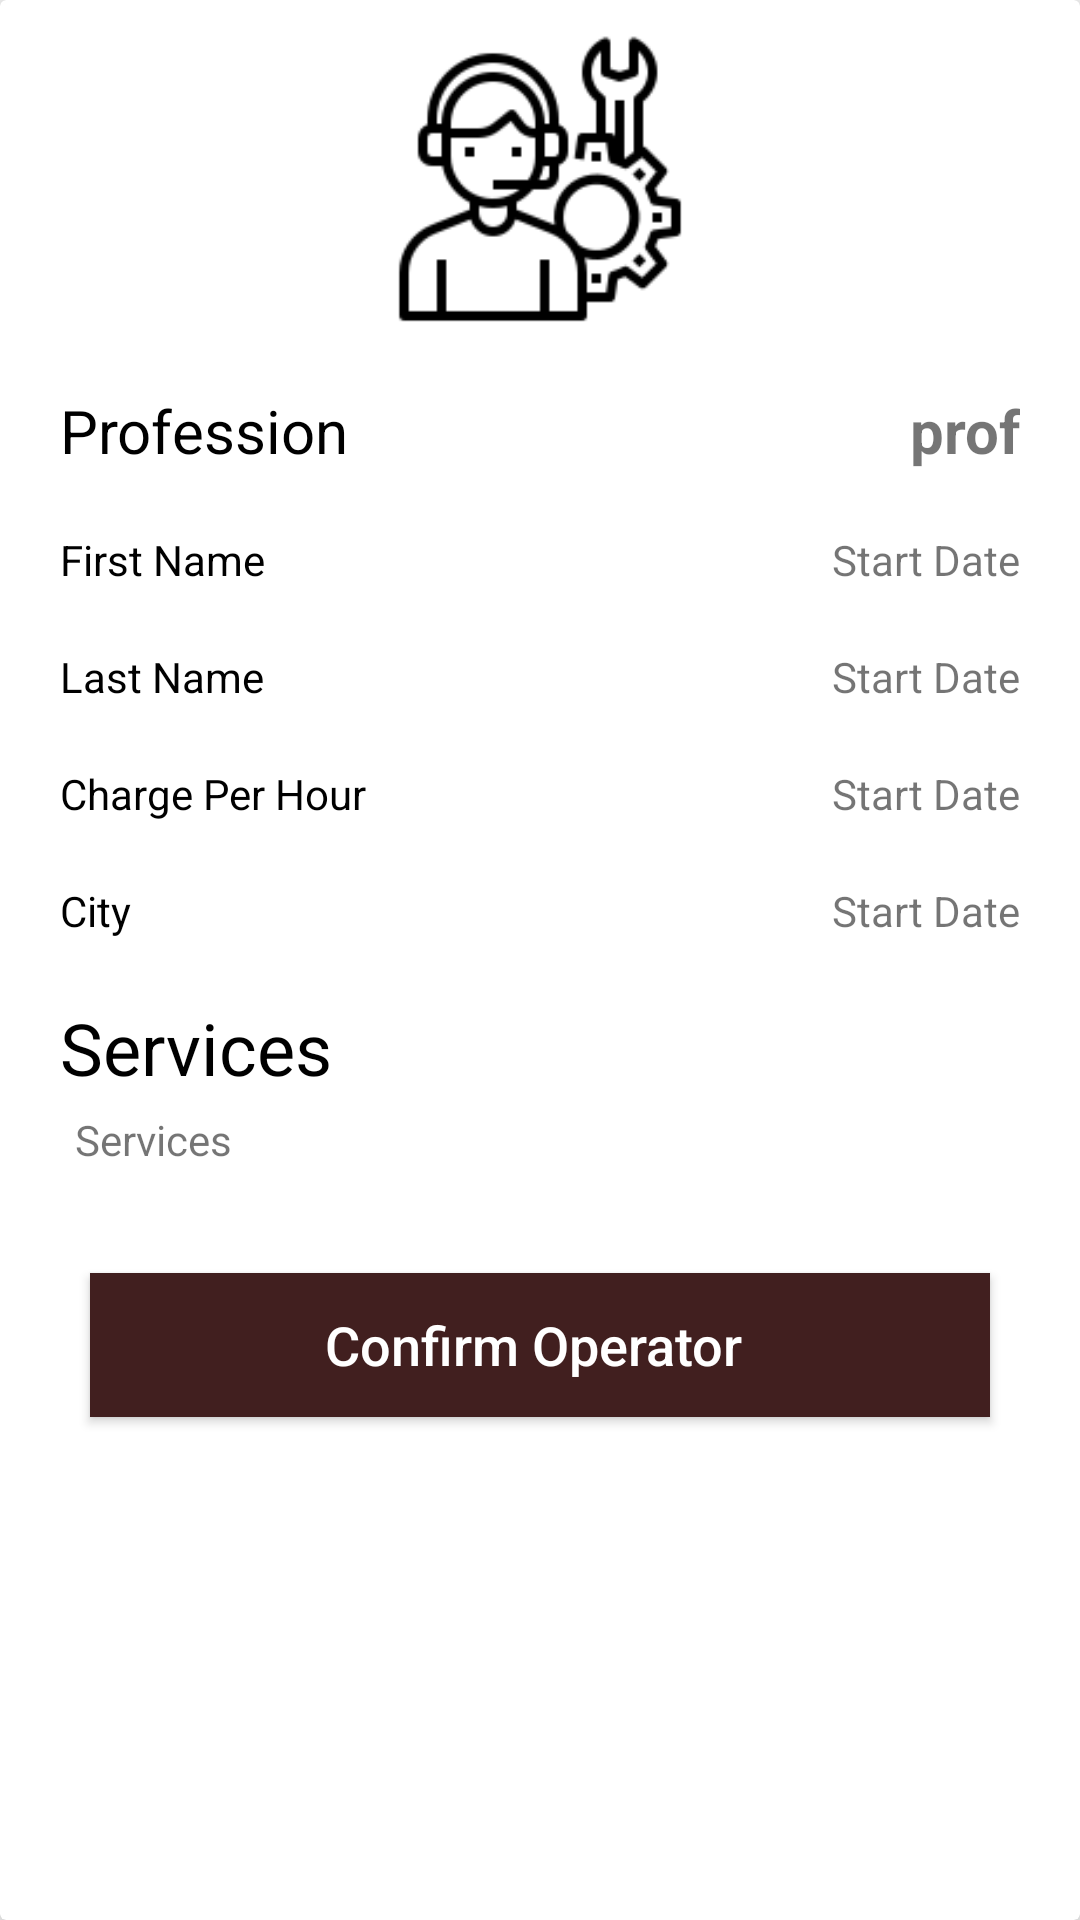

Point at icon controls on the screen. Image size 1080w x 1920h, points as (x,y).
consult: (540,179)
